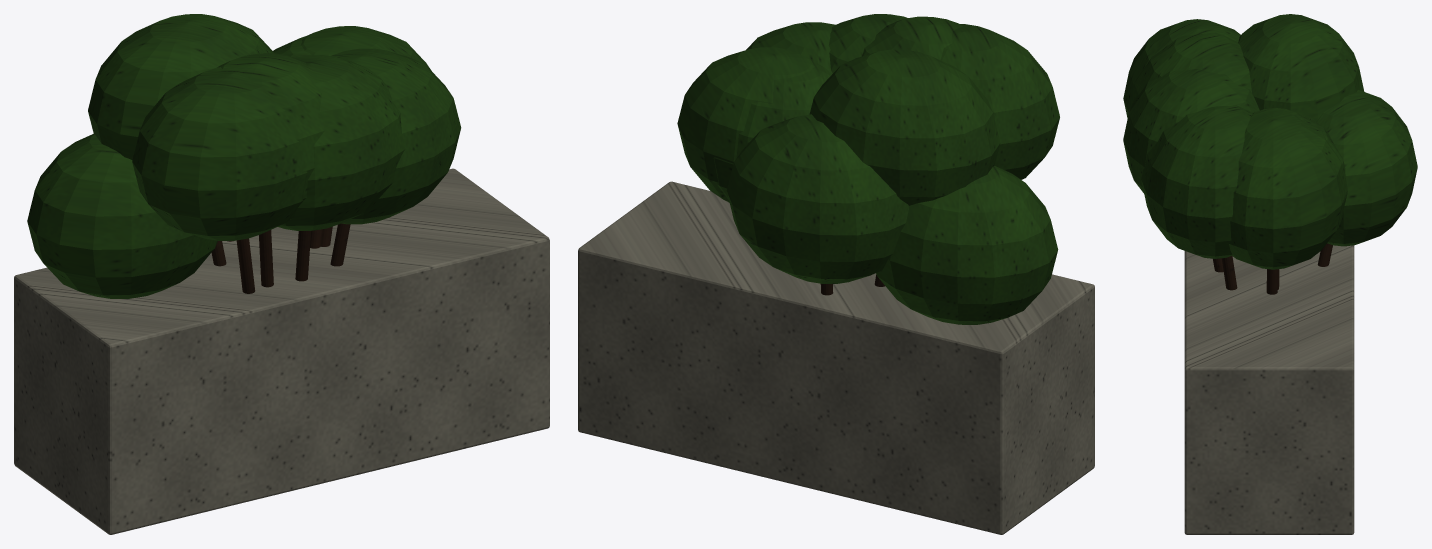
The model's file is PROP-595EFDBBC346_lod0.glb.
3 views of the same model, side by side, from view 1: azimuth 30°, elevation 25°; view 2: azimuth 150°, elevation 25°; view 3: azimuth 270°, elevation 25° (orthographic). The views are drawn at different scales.
Parts seen in each view (by area): view 1: planter, foliage.013, plant_stem.013; view 2: planter, foliage.013; view 3: foliage.013, planter, plant_stem.013.
Boxes of the visible parts, x1,y1,x2,y2 form: planter: (14,168,549,534); foliage.013: (27,14,461,298); plant_stem.013: (211,223,350,293); planter: (578,181,1094,534); foliage.013: (677,14,1059,324); foliage.013: (1123,14,1417,269); planter: (1184,245,1354,534); plant_stem.013: (1213,243,1332,294).
Size of the model in its own units: 1.49 by 1.37 by 0.9552.
Materials: 4 (4 with a texture image).
